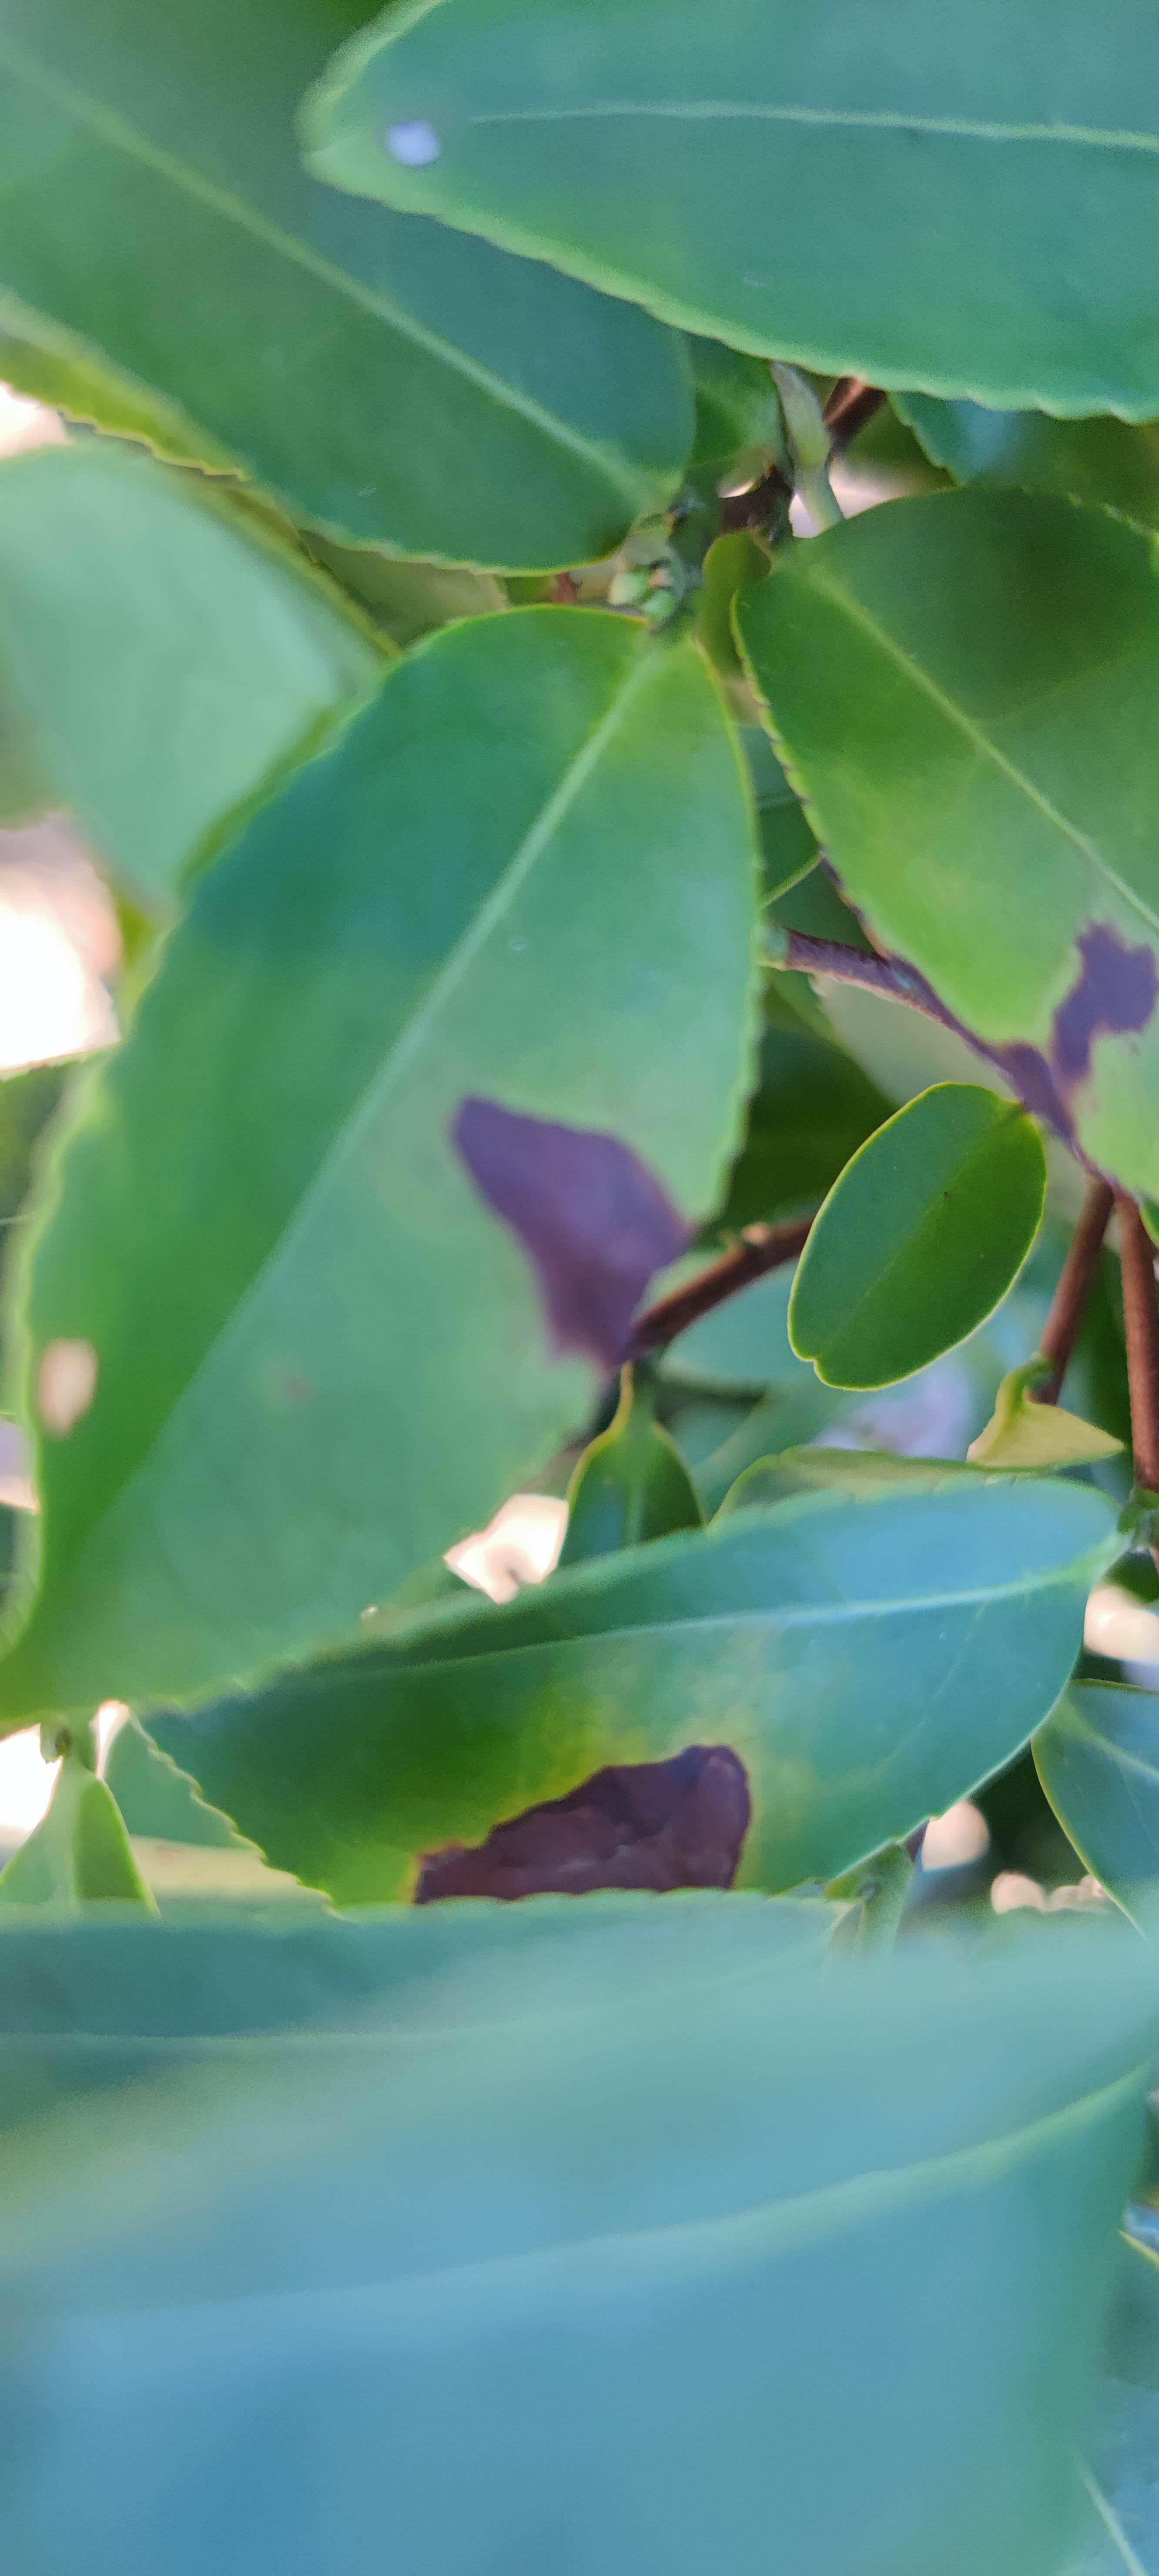healthy: (786, 1084, 1047, 1396)
tanju_high: (11, 608, 770, 1720), (140, 1475, 1106, 1902), (724, 475, 1156, 1181)
tanju_low: (292, 7, 1159, 425)
